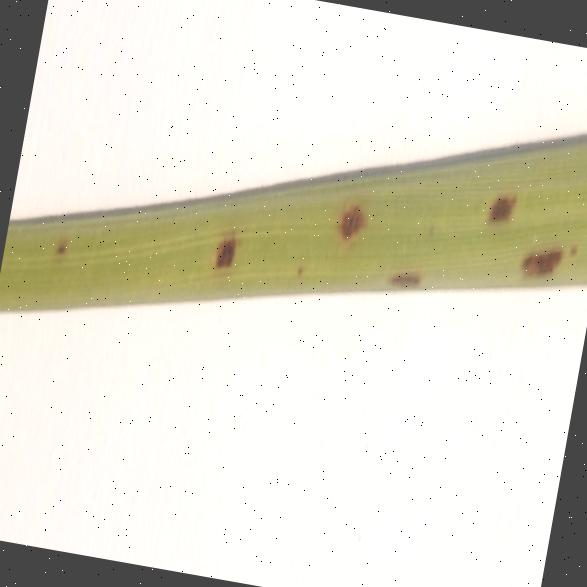Brown_Spot: (516, 232, 577, 292), (206, 213, 247, 298), (334, 168, 377, 248), (388, 240, 434, 302), (481, 176, 530, 231), (48, 205, 76, 265)
